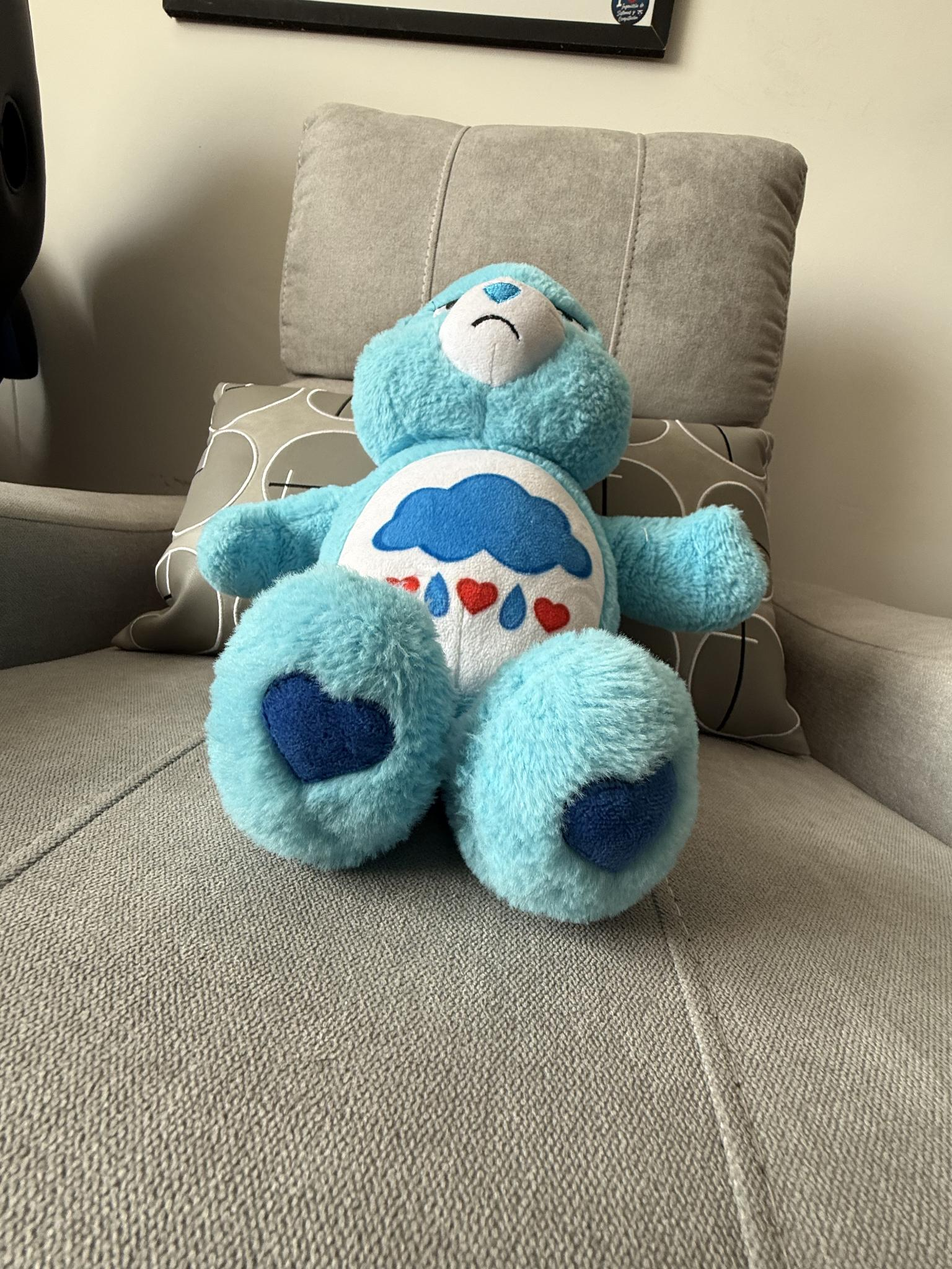peluche_Juan Jose: (246, 249, 752, 917)
